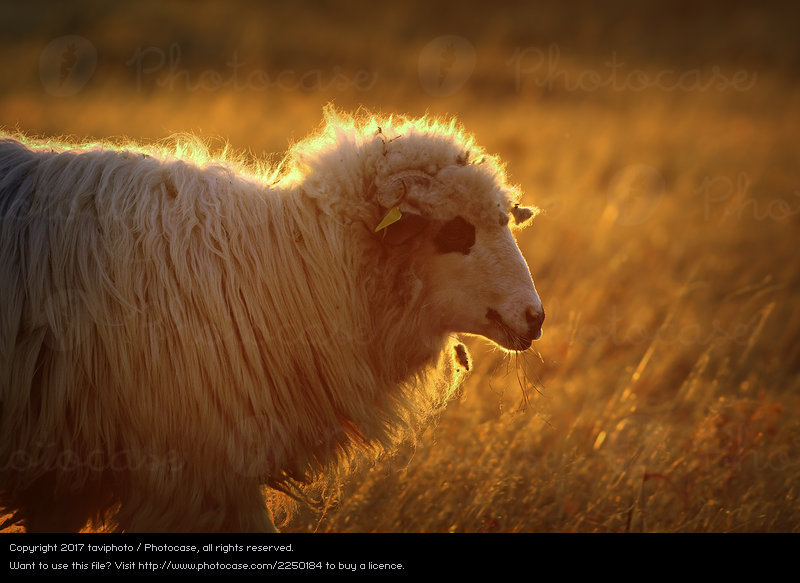sheep: (1, 109, 557, 532)
